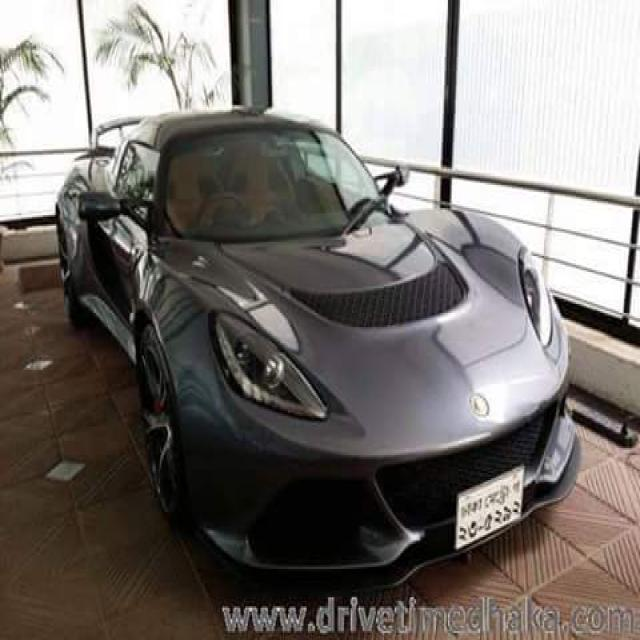numberplate: (452, 462, 525, 551)
